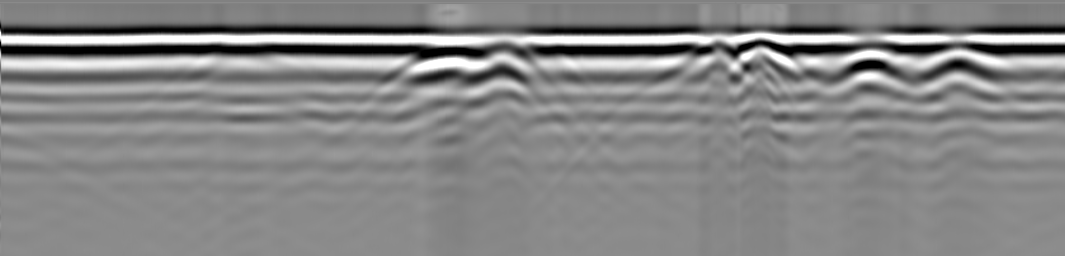pipe: (475, 39, 539, 81), (928, 38, 995, 78), (840, 38, 900, 75), (740, 37, 797, 73), (702, 36, 739, 67)
